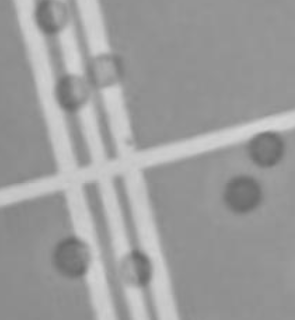cell: (46, 229, 97, 281), (217, 168, 268, 218), (110, 245, 155, 291), (49, 68, 94, 114), (244, 126, 288, 172), (82, 47, 128, 91), (30, 1, 80, 38)
